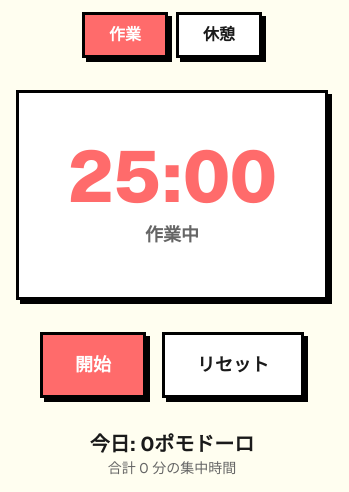
PomodoroTimer › should reset timer when reset button is clicked
Click the button "開始" at x=93, y=365, box top-left (40, 332), bottom-right (146, 398)
Wait 10000 ms
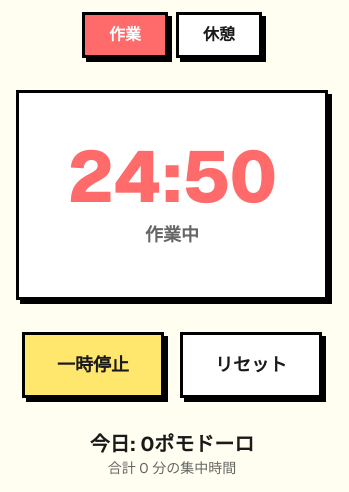
Click the button "リセット" at x=251, y=365, box top-left (180, 332), bottom-right (322, 398)
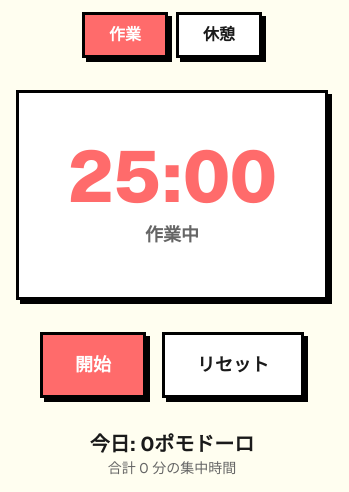
Expected: the text "25:00" is shown, top-left (67, 141), bottom-right (277, 213)
